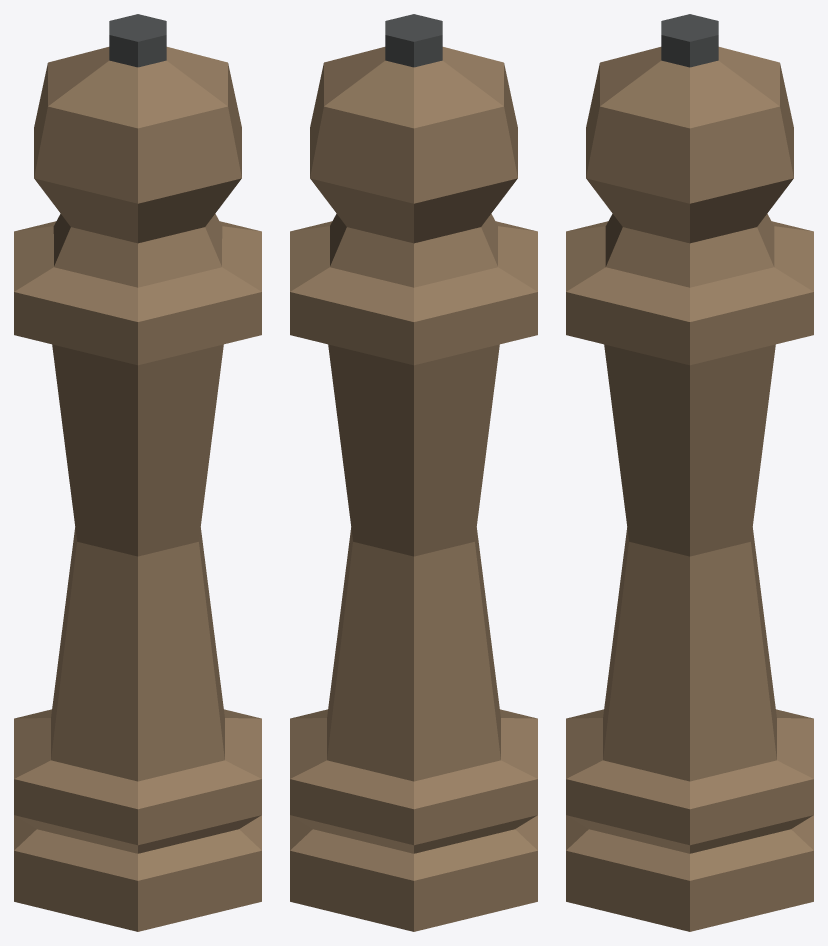
Rendered from kingdom_SM_Item_Salt_Pepper_Grinder_01.gltf.
3 views of the same model, side by side, from view 1: azimuth 30°, elevation 25°; view 2: azimuth 150°, elevation 25°; view 3: azimuth 270°, elevation 25° (orthographic).
Parts seen in each view (by area): view 1: SM_Item_Salt_Pepper_Grinder_01; view 2: SM_Item_Salt_Pepper_Grinder_01; view 3: SM_Item_Salt_Pepper_Grinder_01.
Boxes of the visible parts, <box> form: SM_Item_Salt_Pepper_Grinder_01: <box>14,14,261,931</box>; SM_Item_Salt_Pepper_Grinder_01: <box>290,14,537,931</box>; SM_Item_Salt_Pepper_Grinder_01: <box>566,14,813,931</box>.
Size of the model in its own units: 0.1 by 0.3252 by 0.0866.
1 material, 1 textured.
